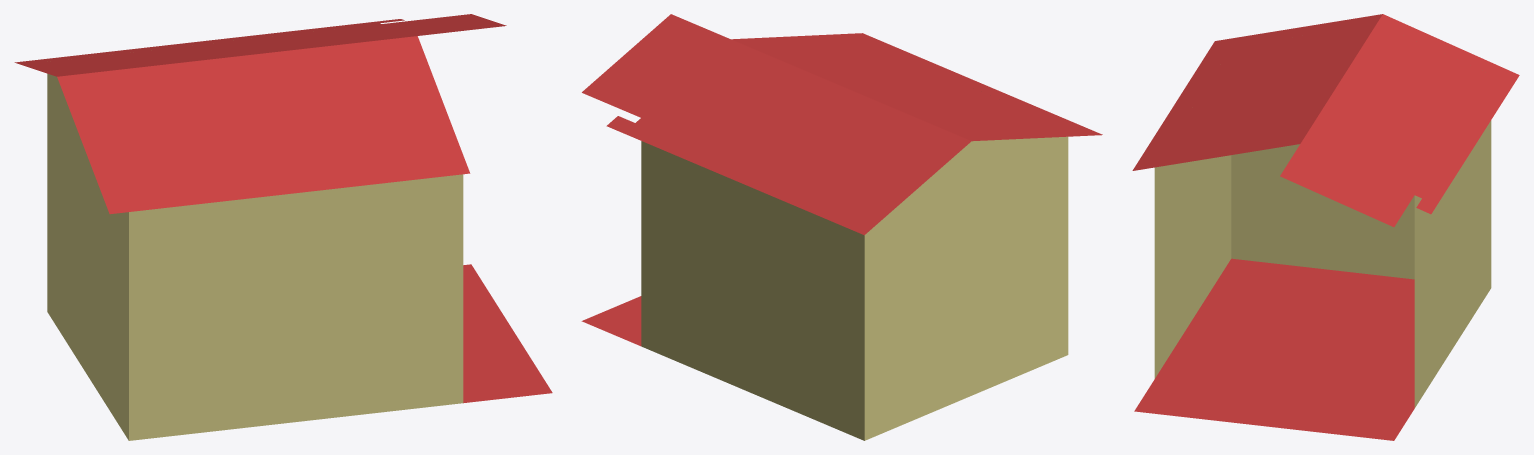
The picture shows the model from 3 angles, left to right: view 1: azimuth 30°, elevation 25°; view 2: azimuth 150°, elevation 25°; view 3: azimuth 270°, elevation 25°; orthographic projection. The views are drawn at different scales.
Size of the model in its own units: 14.84 by 12.51 by 8.96.
